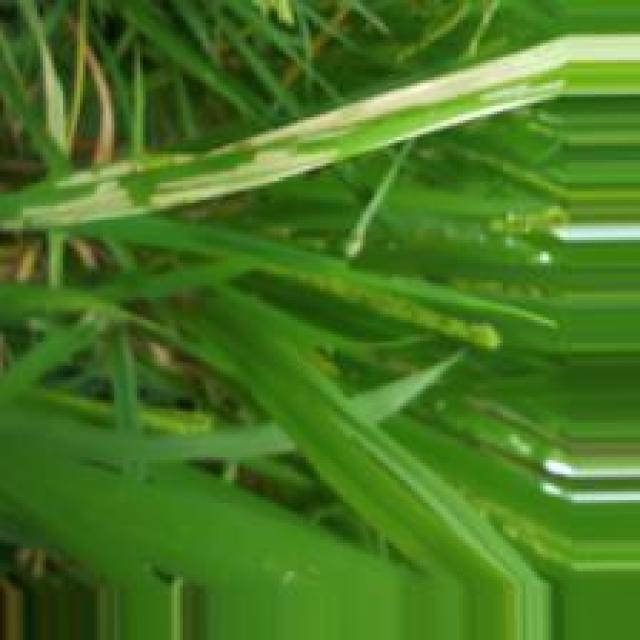Rice_Hispa: (232, 28, 638, 147), (0, 146, 338, 231)
